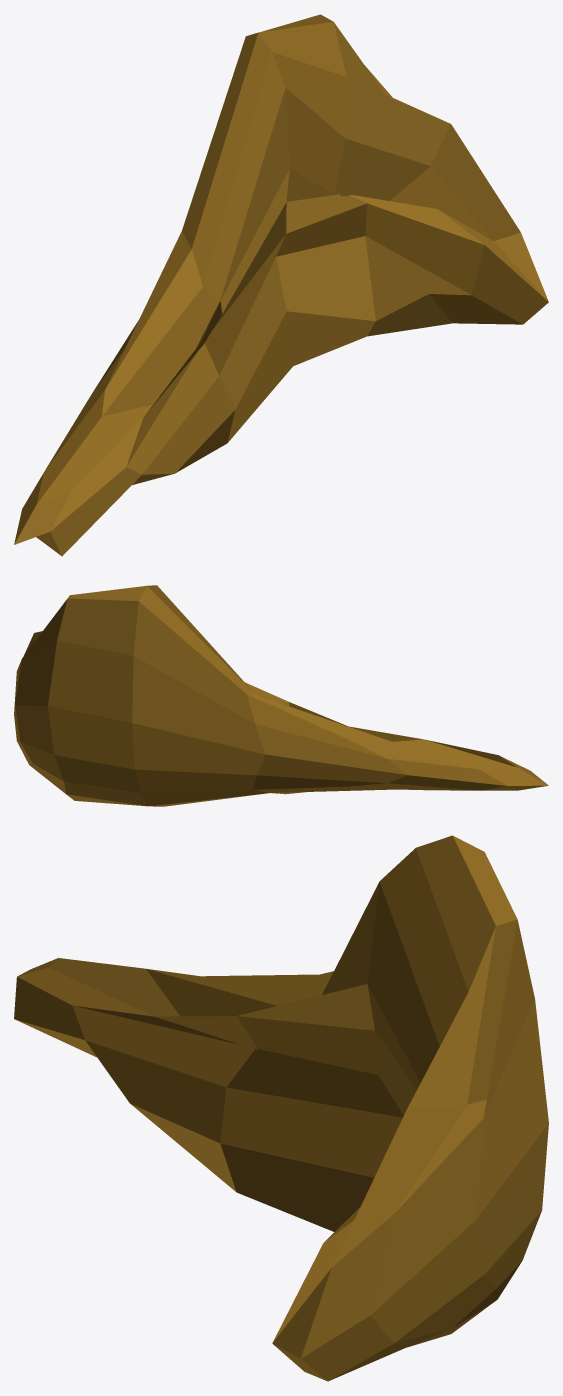
Rendered from Pared.fbx.
The picture shows the model from 3 angles, top to bottom: view 1: azimuth 30°, elevation 25°; view 2: azimuth 150°, elevation 25°; view 3: azimuth 270°, elevation 25°; orthographic projection. The views are drawn at different scales.
Visible parts, largest first — view 1: Box001; view 2: Box001; view 3: Box001.
Part boxes in pixels (x1,y1,x2,y2): Box001: [14, 14, 548, 556]; Box001: [14, 585, 548, 806]; Box001: [14, 835, 548, 1381].
Size of the model in its own units: 160 by 87.89 by 78.45.
